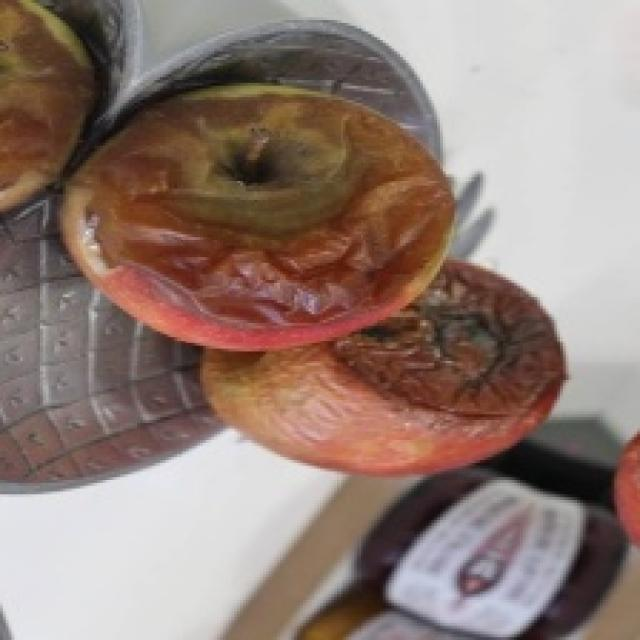rotten_apple: (64, 91, 450, 322), (383, 261, 563, 474), (0, 0, 98, 201)
